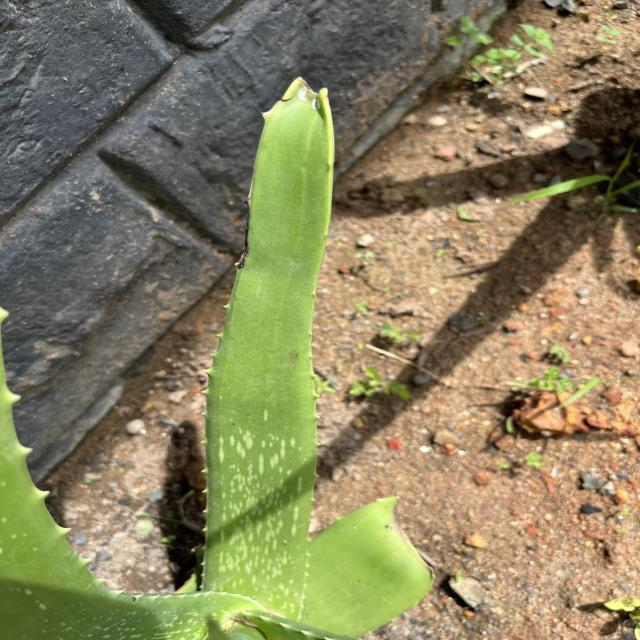Aloe vera: (195, 69, 342, 610)
